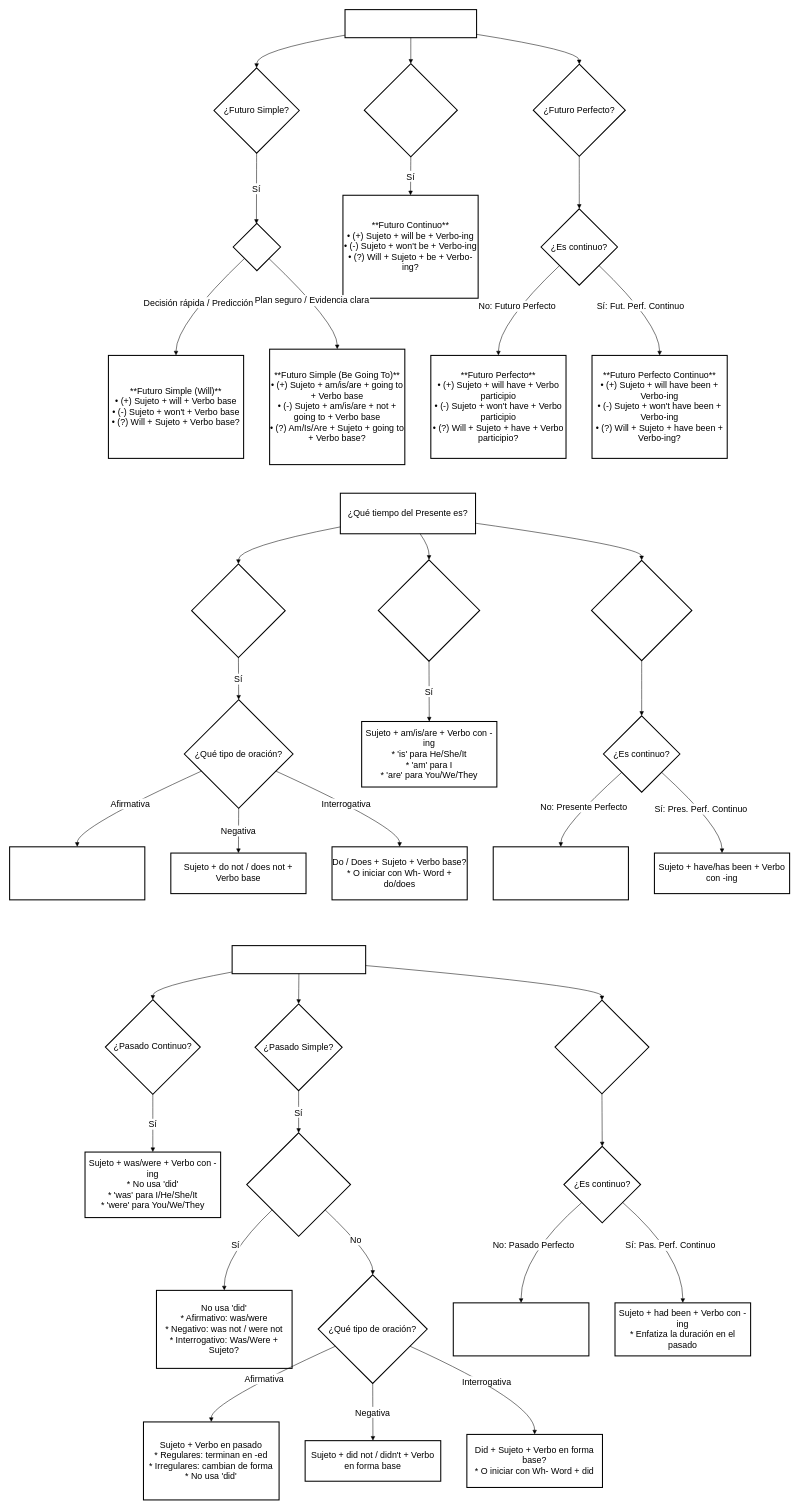
Some shapes in this 799 by 1509 pixel diagram are drawn without their labels. Here are the shapes that lost their labels. From the top down, the centre of each, then its label:
At [410,23]: "¿Qué tiempo del Futuro es?".
At [410,110]: "¿Futuro Continuo?".
At [256,247]: "¿Uso?".
At [238,610]: "¿Presente Simple?".
At [429,610]: "¿Presente Continuo?".
At [641,610]: "¿Presente Perfecto?".
At [77,873]: "Sujeto + Verbo * Añadir -s/-es si es 3ª persona: He/She/It".
At [560,873]: "Sujeto + have/has + Verbo en Participio * 'has' para He/She/It".
At [298,959]: "¿Qué tiempo del Pasado es?".
At [601,1046]: "¿Pasado Perfecto?".
At [298,1184]: "¿Usa el verbo To Be?".
At [521,1329]: "Sujeto + had + Verbo en Participio * Acción antes de otra acción pasada".
